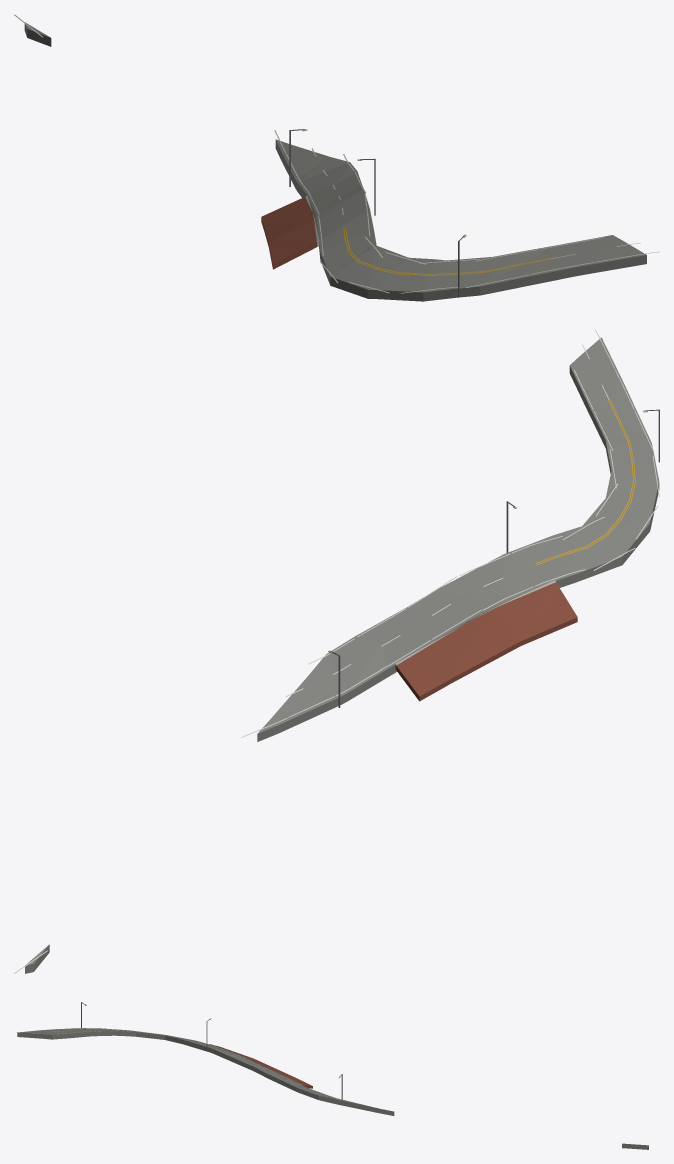
Rendered from 17-109445-59465.cfa99077.glb.
3 views of the same model, one above another, from view 1: azimuth 30°, elevation 25°; view 2: azimuth 150°, elevation 25°; view 3: azimuth 270°, elevation 25° (orthographic). The views are drawn at different scales.
Bounding box in the file's own units: 25.58 × 31.35 × 153.
